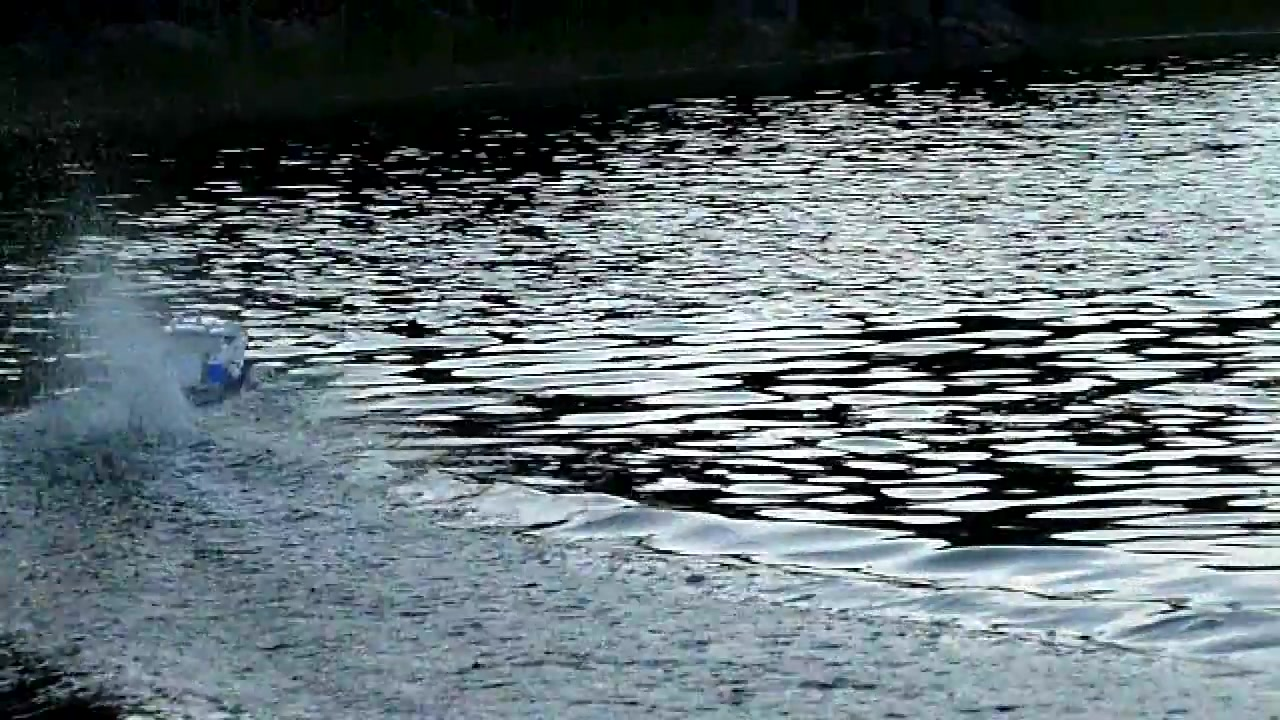boat: (146, 310, 259, 413)
